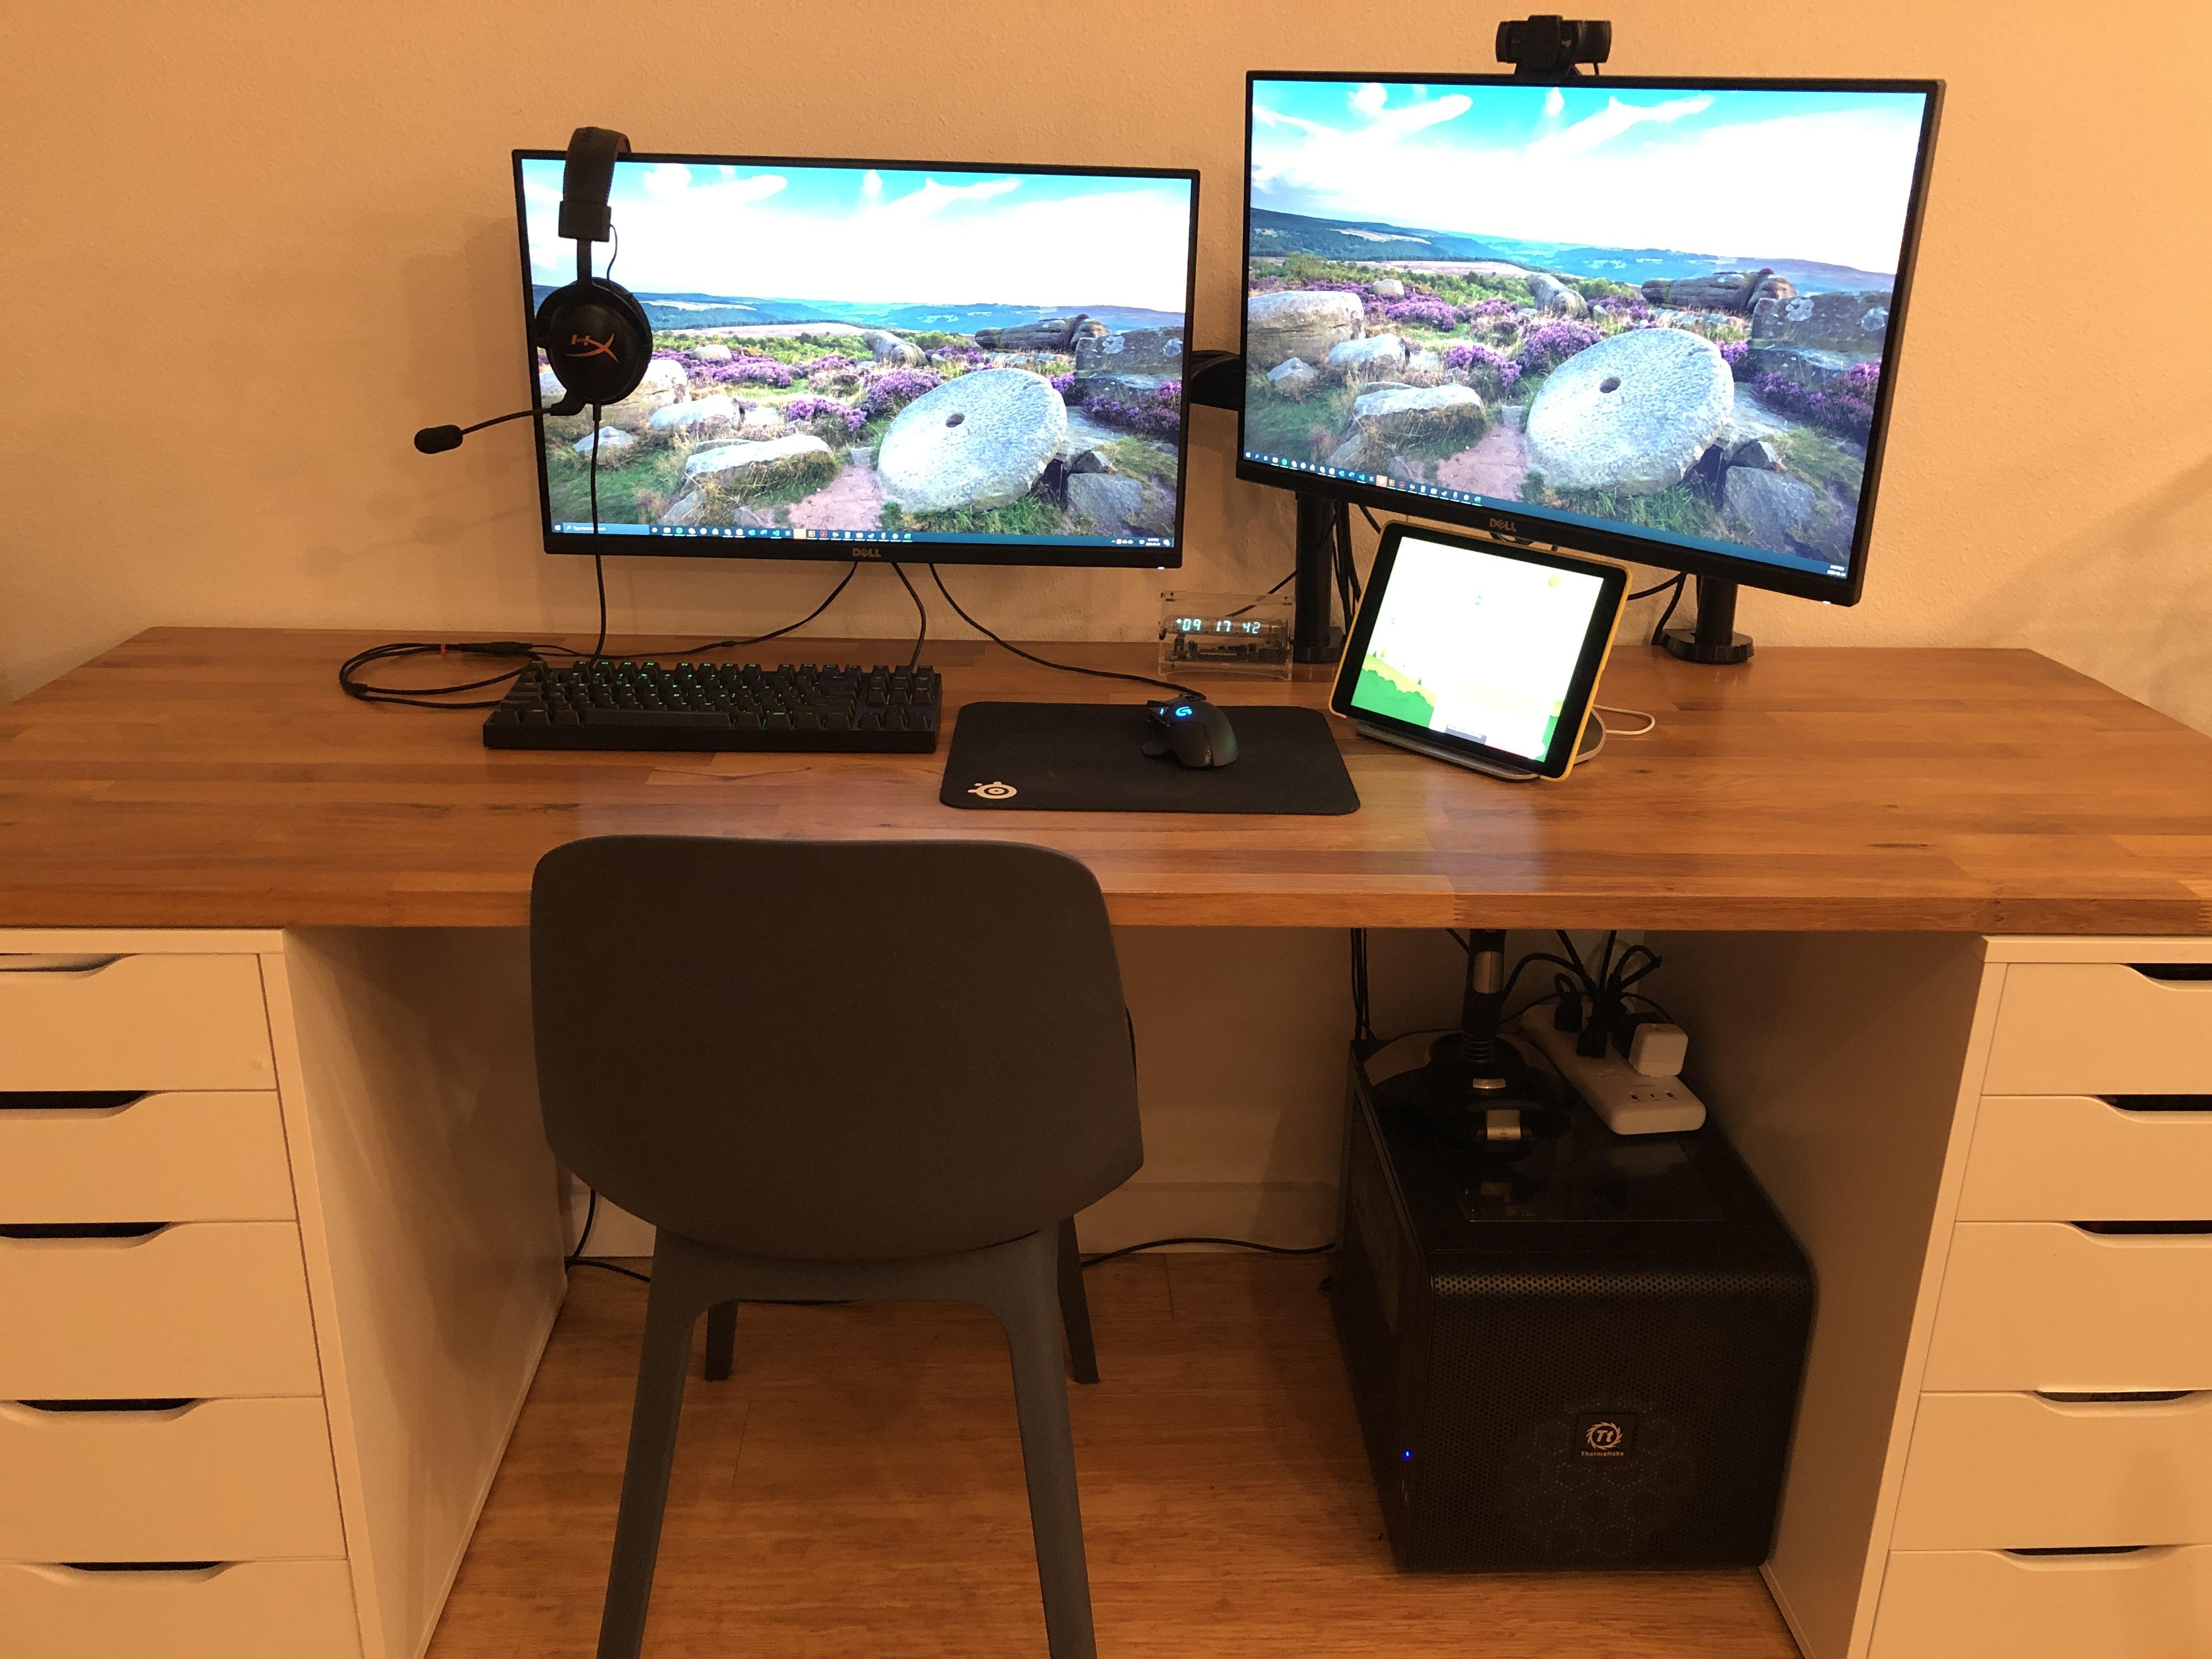Chair (Generic): (543, 854, 1130, 1659)
Decoration (Clock): (1136, 586, 1310, 683)
Desk (Generic): (0, 638, 2212, 924)
Desktop (Windows): (1376, 1241, 1785, 1567)
External Webcam: (1489, 10, 1622, 75)
Headphones (with Microphone): (421, 94, 679, 490)
Keyboard (Gaming): (475, 655, 939, 748)
Monitor (Landscape): (1249, 73, 1860, 599), (517, 157, 1179, 563)
Monitor Arm: (1280, 500, 1359, 669), (1674, 565, 1773, 688)
Mouse (Gaming): (1129, 688, 1264, 775)
Mousepad (Generic): (967, 702, 1367, 831)
Power Strip: (1534, 979, 1717, 1154)
Storage Drawer: (1827, 934, 2212, 1659), (0, 938, 369, 1659)
Tablet (Generic): (1343, 538, 1639, 765)
